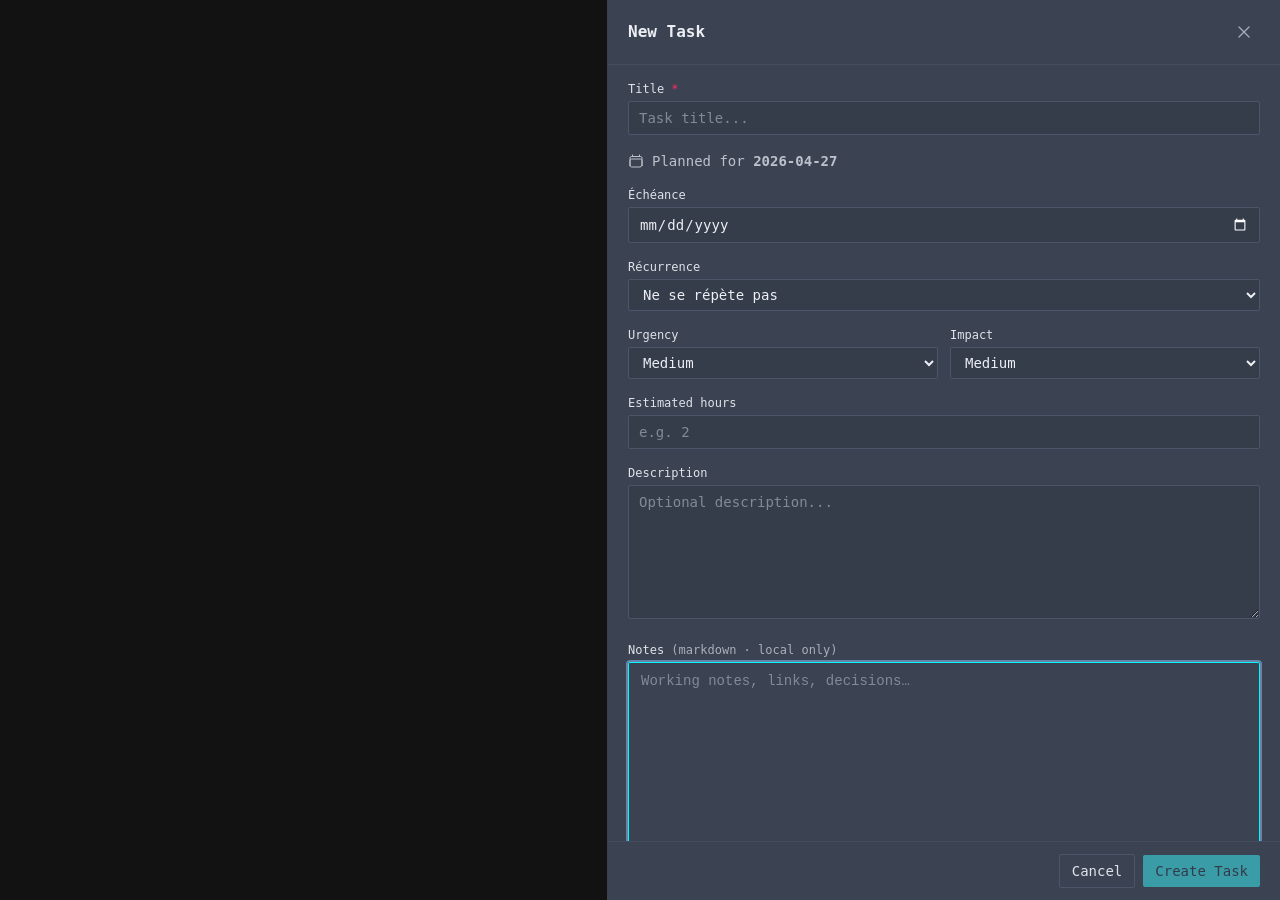
Scenario: TaskCreateSheet — weekly/Friday recurrence › save button reads "Create Recurring Task" when recurrence is set
Select "Toutes les semaines" in the dropdown labelled "Récurrence": {"x": 944, "y": 295} [628,279,1260,311]
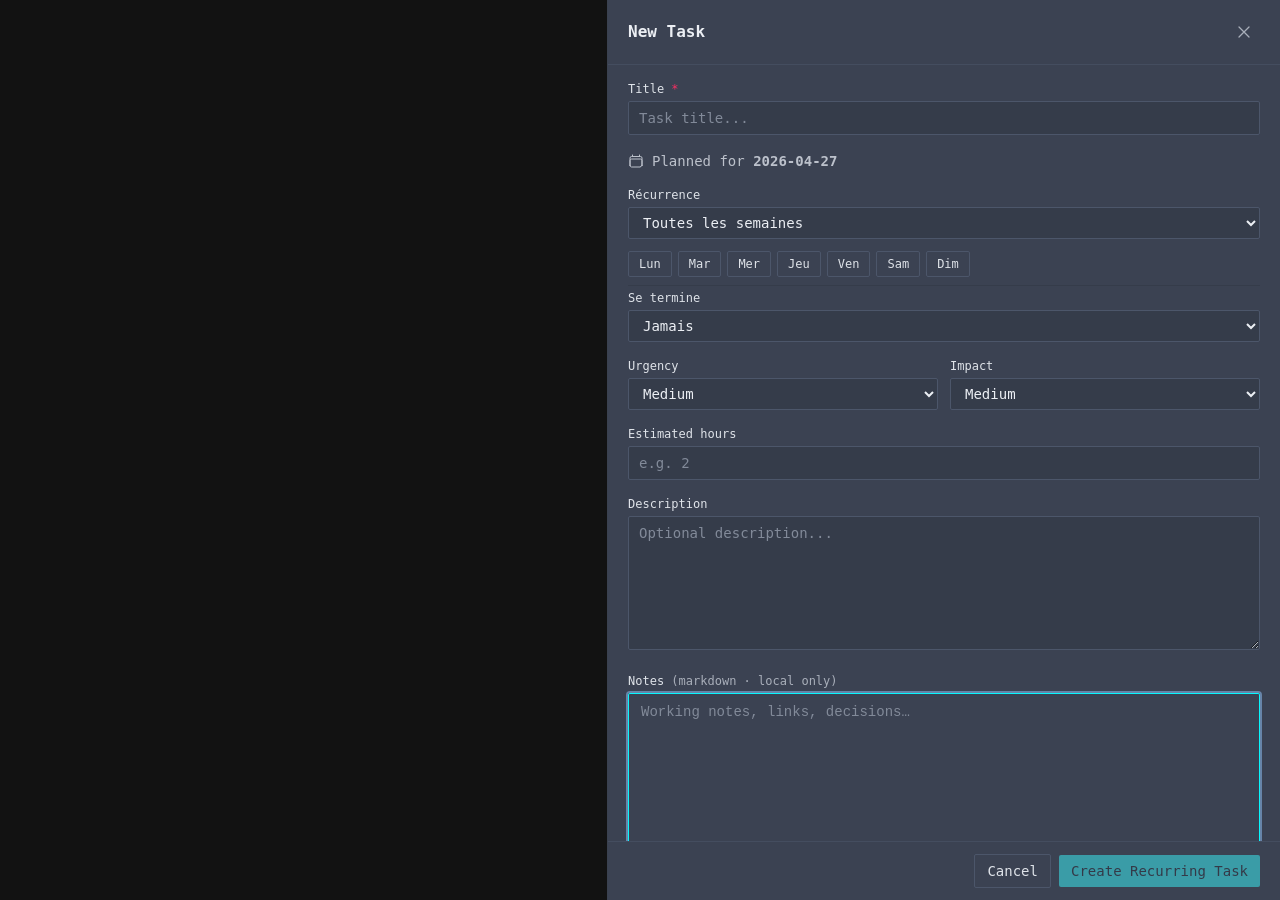
Now the button "Create Recurring Task" is shown, box [1059,855,1260,887]
